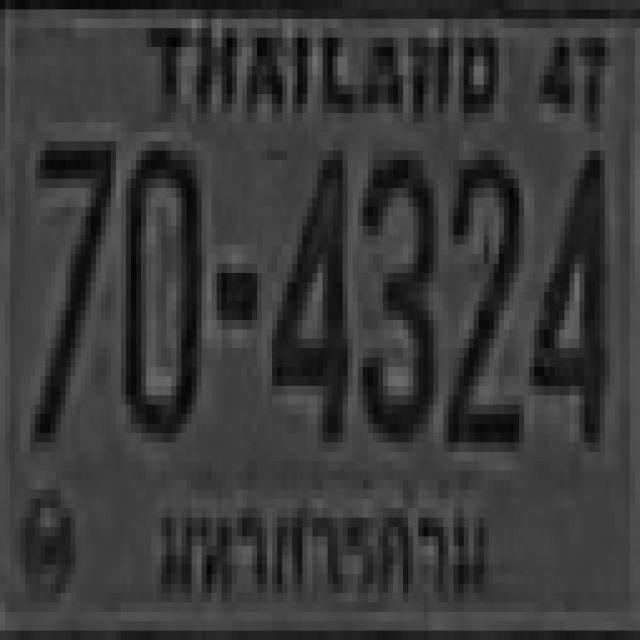0: (121, 136, 196, 428)
2: (444, 146, 519, 438)
3: (358, 141, 433, 433)
4: (529, 142, 605, 442), (270, 141, 345, 433)
7: (30, 132, 111, 433)
MahaSarakham: (155, 472, 490, 626)
